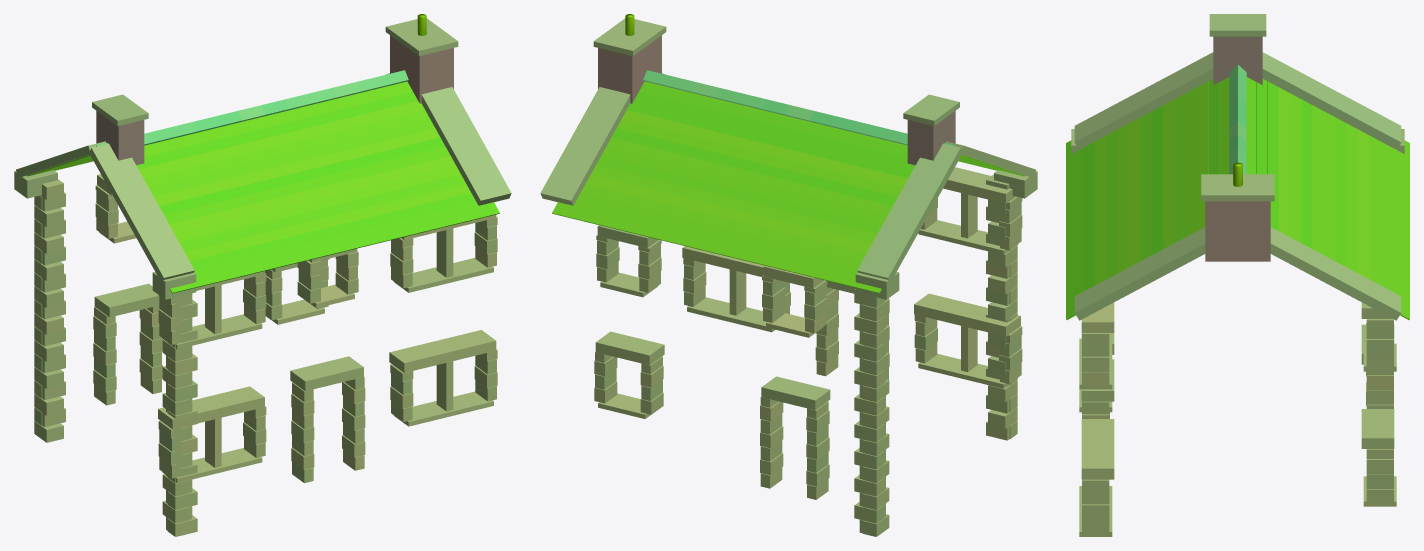
Rendered from SM_Bld_244_Stone.glb.
The picture shows the model from 3 angles, left to right: view 1: azimuth 30°, elevation 25°; view 2: azimuth 150°, elevation 25°; view 3: azimuth 270°, elevation 25°; orthographic projection. The views are drawn at different scales.
Visible parts, largest first — view 1: SM_Bld_244_Stone; view 2: SM_Bld_244_Stone; view 3: SM_Bld_244_Stone.
Part boxes in pixels (x1,y1,x2,y2): SM_Bld_244_Stone: (14, 14, 511, 536); SM_Bld_244_Stone: (540, 14, 1037, 536); SM_Bld_244_Stone: (1066, 14, 1409, 536).
Bounding box in the file's own units: 8.2 × 8.73 × 6.29.
